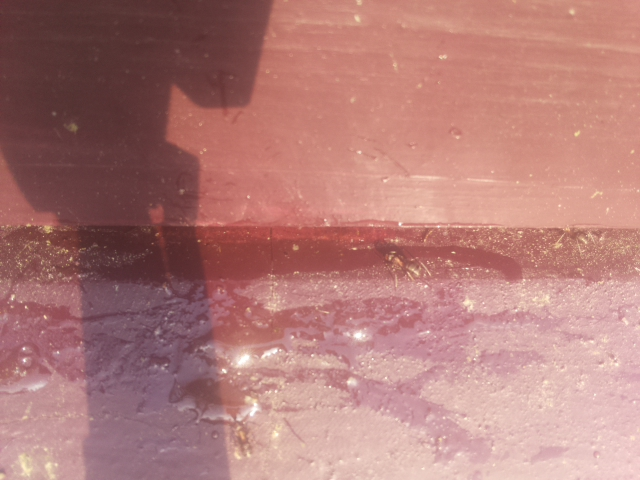ant: (382, 245, 421, 288), (231, 417, 253, 466)
